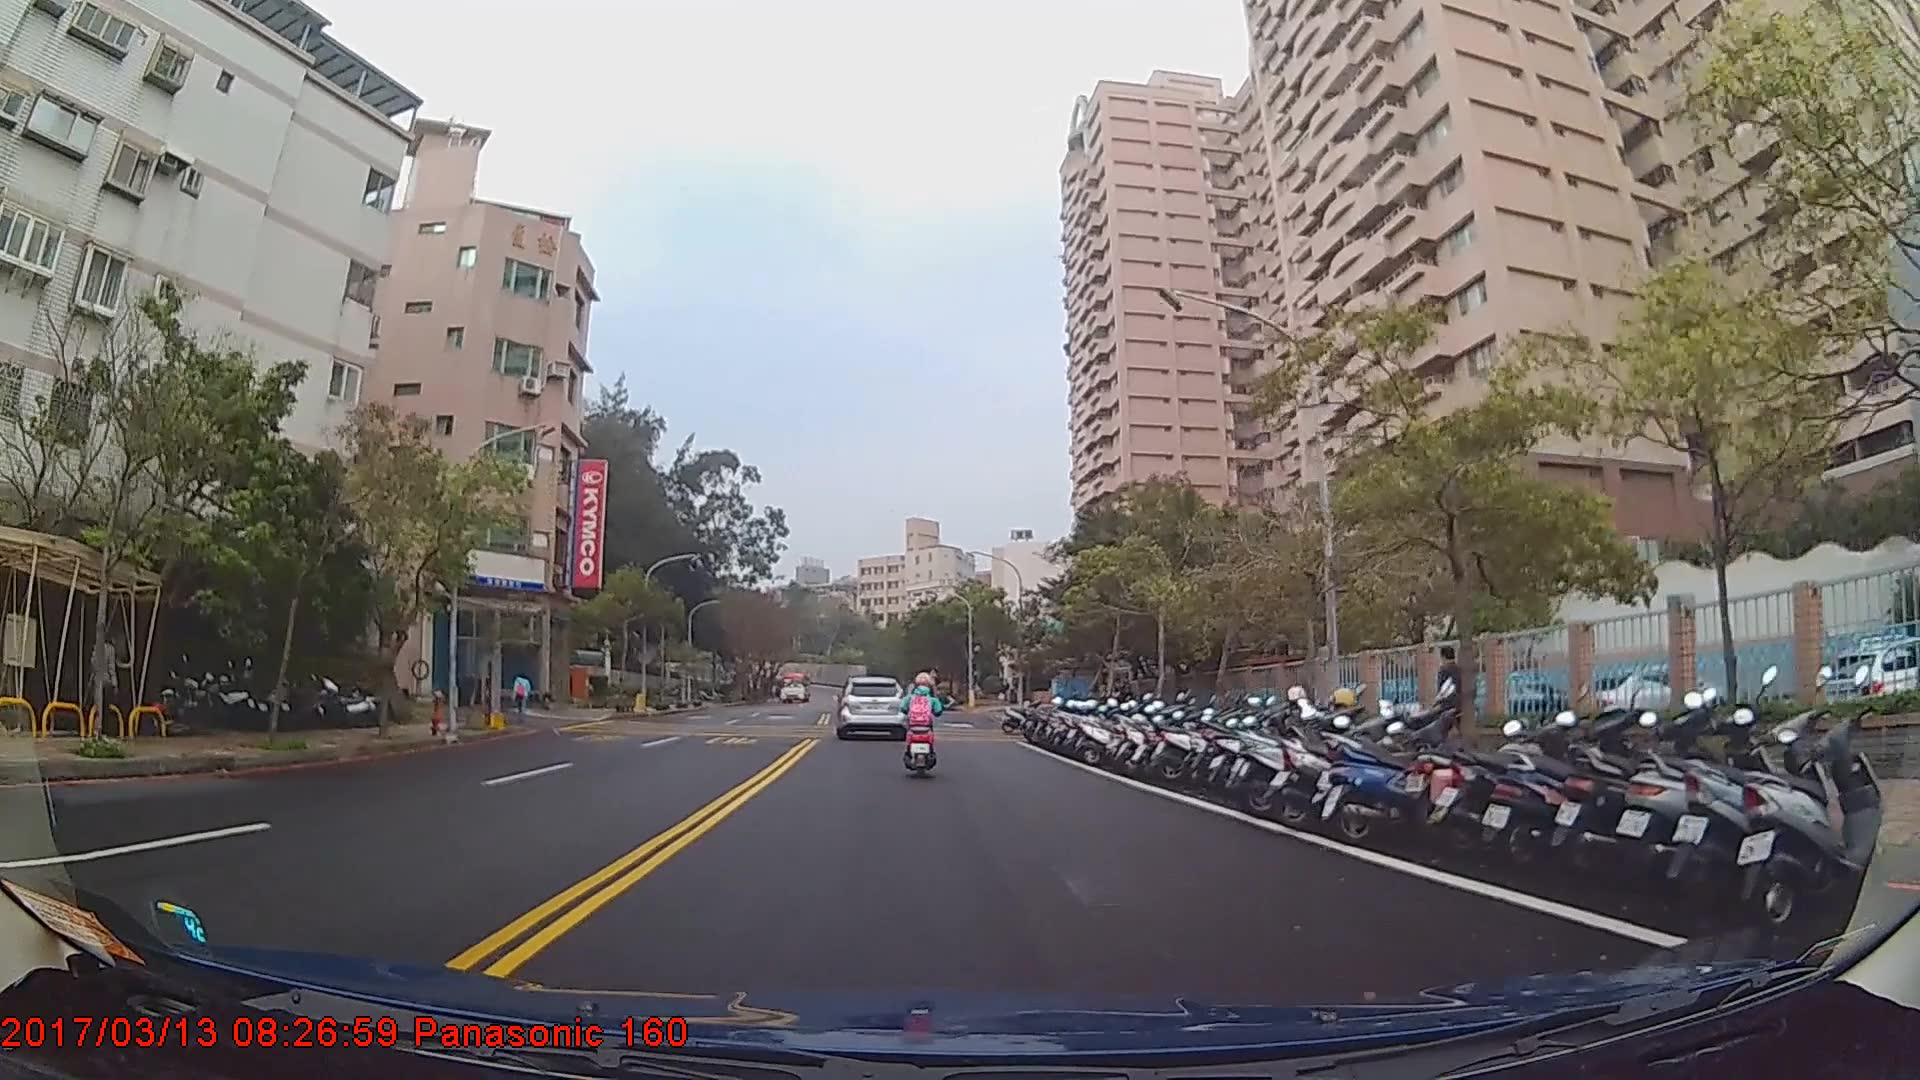pedestrian: (1435, 645, 1480, 767), (83, 626, 123, 750), (511, 666, 533, 723)
rider: (899, 672, 946, 784)
vehicle: (836, 673, 907, 738), (776, 669, 811, 705)
